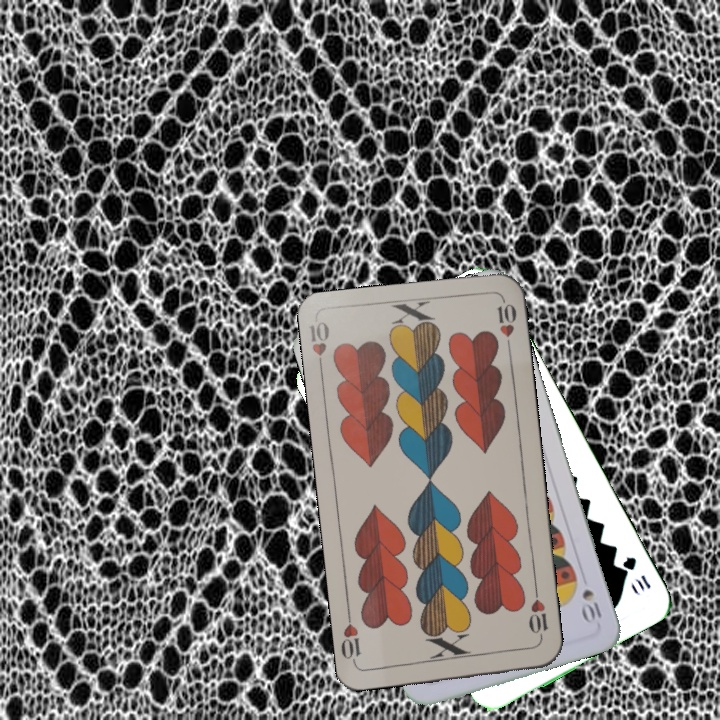G10: (618, 552, 654, 593)
H10: (524, 585, 551, 644), (306, 317, 332, 376)
S10: (578, 585, 604, 624)
